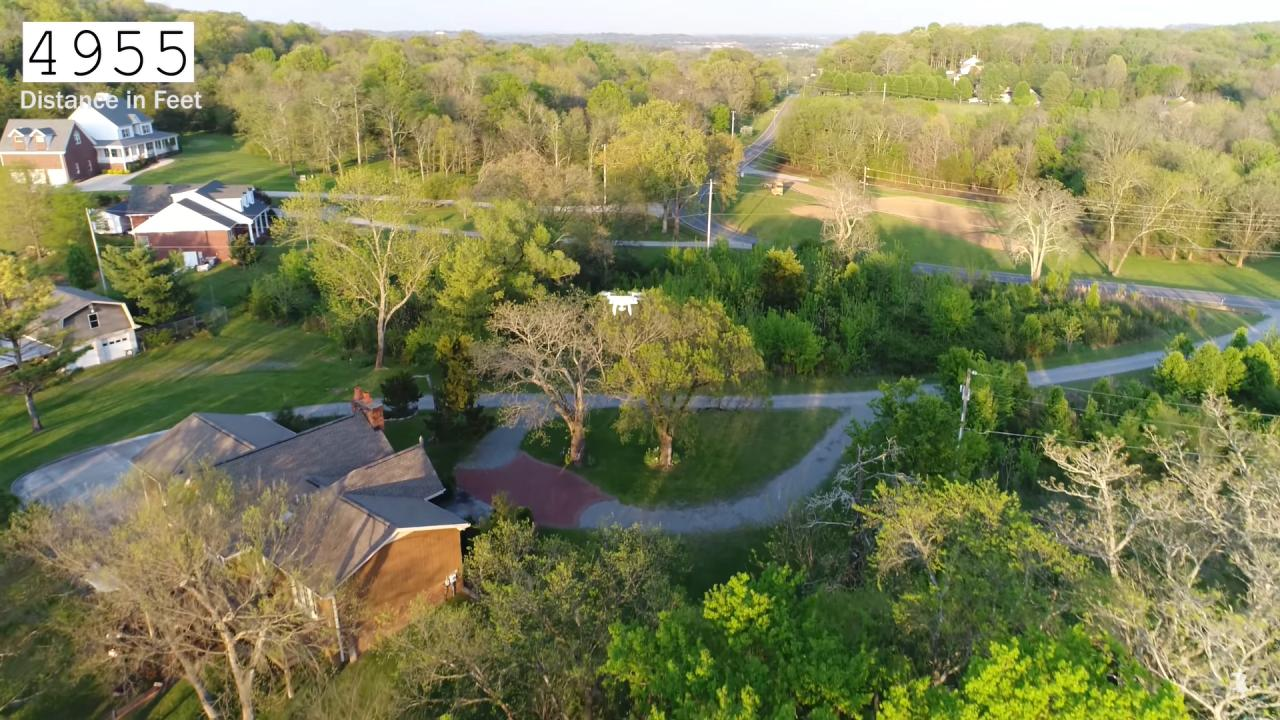Drone: (592, 287, 653, 323)
